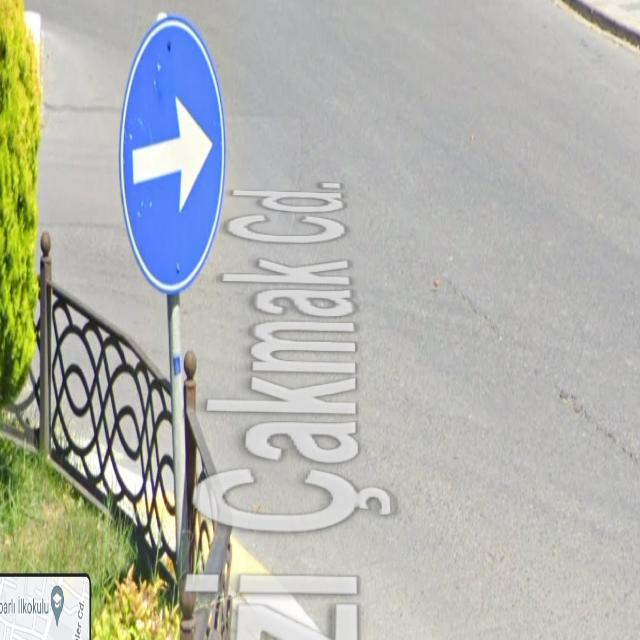Turn Right: (120, 20, 224, 303)
